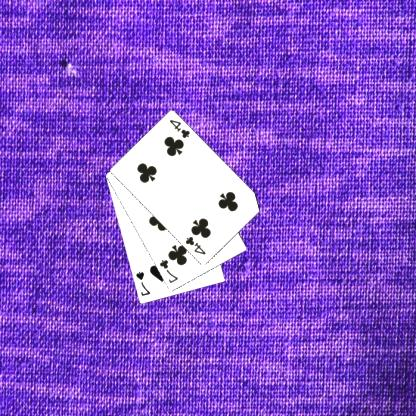4C: (168, 117, 193, 140), (184, 234, 209, 256)
7C: (159, 257, 181, 285)
7S: (135, 269, 153, 297)
